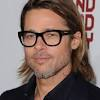Glasses: (11, 28, 74, 48)
